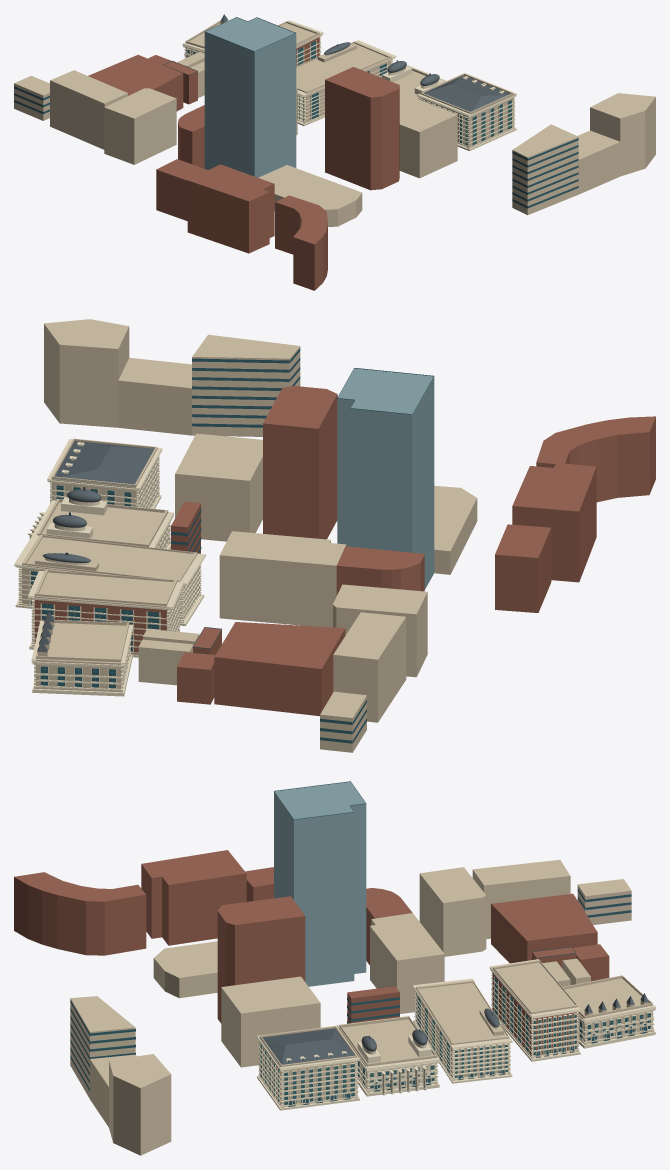
Rendered from city_-2_-2.glb.
The picture shows the model from 3 angles, top to bottom: view 1: azimuth 30°, elevation 25°; view 2: azimuth 150°, elevation 25°; view 3: azimuth 270°, elevation 25°; orthographic projection. The views are drawn at different scales.
Parts seen in each view (by area): view 1: city_-2_-2; view 2: city_-2_-2; view 3: city_-2_-2.
Part boxes in pixels (x1=…): city_-2_-2: x1=14, y1=14, x2=655, y2=290; city_-2_-2: x1=14, y1=319, x2=655, y2=752; city_-2_-2: x1=14, y1=781, x2=655, y2=1155.
Size of the model in its own units: 267 by 85.25 by 293.
